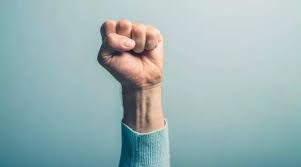fist: (95, 18, 166, 86)
